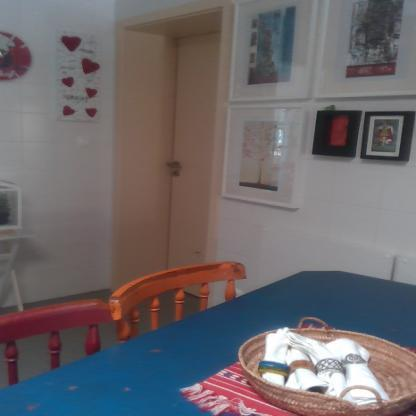door: (166, 38, 216, 296)
lever: (167, 162, 185, 170)
